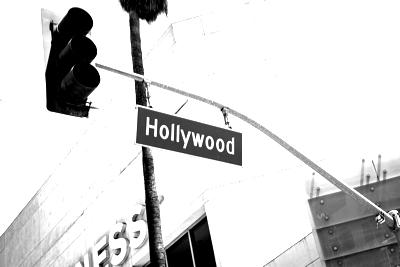International Road Signal Light: (43, 5, 102, 118)
